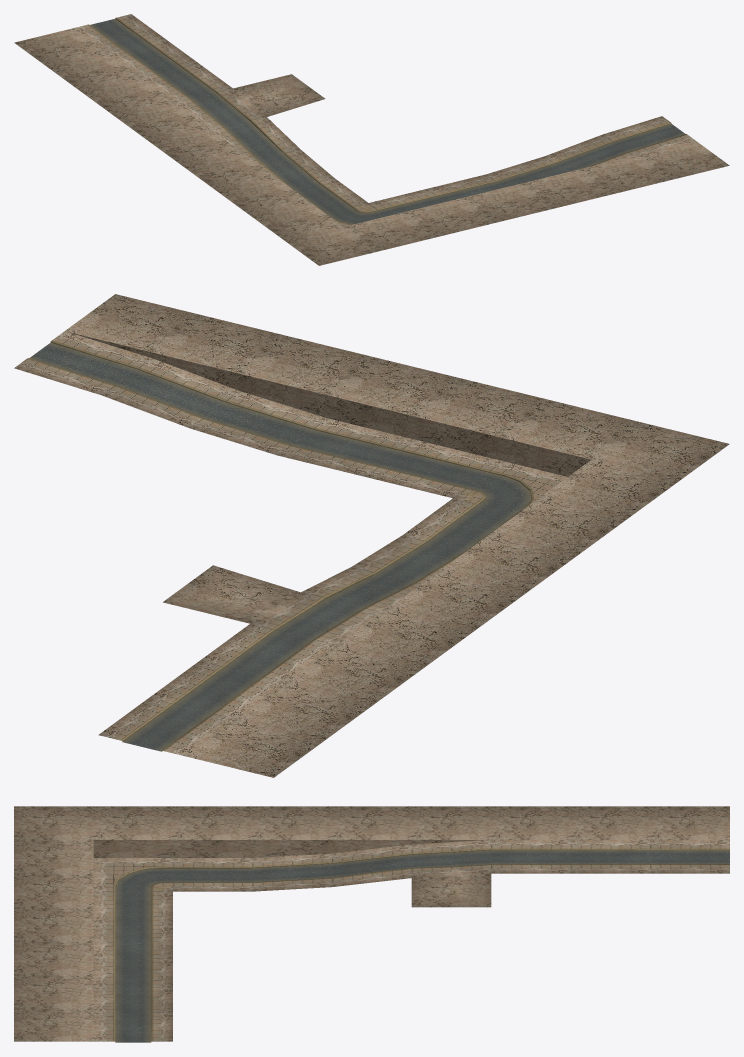
Rendered from M11Z2_Floor4.glb.
3 views of the same model, one above another, from view 1: azimuth 30°, elevation 25°; view 2: azimuth 150°, elevation 25°; view 3: azimuth 270°, elevation 25° (orthographic). The views are drawn at different scales.
Visible parts, largest first — view 1: M11Z2_FLOOR4022, M11Z2_FLOOR4021, M11Z2_FLOOR4019, M11Z2_FLOOR4013, M11Z2_FLOOR4026, M11Z2_FLOOR4004, M11Z2_FLOOR4016, M11Z2_FLOOR4023, M11Z2_FLOOR4024, M11Z2_FLOOR4001, M11Z2_FLOOR4003, M11Z2_FLOOR4006 (+17 smaller); view 2: M11Z2_FLOOR4003, M11Z2_FLOOR4002, M11Z2_FLOOR4004, M11Z2_FLOOR4001, M11Z2_FLOOR4005, M11Z2_FLOOR4012, M11Z2_FLOOR4011, M11Z2_FLOOR4013, M11Z2_FLOOR4006, M11Z2_FLOOR4028, M11Z2_FLOOR4016, M11Z2_FLOOR4023 (+17 smaller); view 3: M11Z2_FLOOR4007, M11Z2_FLOOR4014, M11Z2_FLOOR4016, M11Z2_FLOOR4018, M11Z2_FLOOR4020, M11Z2_FLOOR4002, M11Z2_FLOOR4017, M11Z2_FLOOR4021, M11Z2_FLOOR4009, M11Z2_FLOOR4008, M11Z2_FLOOR4019, M11Z2_FLOOR4010 (+17 smaller).
Boxes of the visible parts, left/top/right/bottom form: M11Z2_FLOOR4022: left=233, top=74, right=325, bottom=116; M11Z2_FLOOR4021: left=174, top=88, right=266, bottom=130; M11Z2_FLOOR4019: left=212, top=117, right=300, bottom=160; M11Z2_FLOOR4013: left=604, top=116, right=695, bottom=155; M11Z2_FLOOR4026: left=107, top=39, right=198, bottom=77; M11Z2_FLOOR4004: left=520, top=169, right=611, bottom=208; M11Z2_FLOOR4016: left=184, top=152, right=275, bottom=191; M11Z2_FLOOR4023: left=82, top=78, right=173, bottom=116; M11Z2_FLOOR4024: left=141, top=63, right=232, bottom=102; M11Z2_FLOOR4001: left=344, top=212, right=435, bottom=251; M11Z2_FLOOR4003: left=461, top=184, right=553, bottom=222; M11Z2_FLOOR4006: left=637, top=141, right=729, bottom=179; M11Z2_FLOOR4003: left=328, top=358, right=465, bottom=439; M11Z2_FLOOR4002: left=416, top=379, right=553, bottom=460; M11Z2_FLOOR4004: left=240, top=337, right=378, bottom=418; M11Z2_FLOOR4001: left=503, top=401, right=641, bottom=476; M11Z2_FLOOR4005: left=152, top=315, right=290, bottom=390; M11Z2_FLOOR4012: left=102, top=358, right=239, bottom=427; M11Z2_FLOOR4011: left=190, top=391, right=327, bottom=455; M11Z2_FLOOR4013: left=14, top=331, right=151, bottom=395; M11Z2_FLOOR4006: left=65, top=294, right=202, bottom=357; M11Z2_FLOOR4028: left=98, top=698, right=236, bottom=756; M11Z2_FLOOR4016: left=440, top=534, right=577, bottom=592; M11Z2_FLOOR4023: left=288, top=645, right=425, bottom=703; M11Z2_FLOOR4007: left=93, top=806, right=172, bottom=857; M11Z2_FLOOR4014: left=173, top=806, right=252, bottom=857; M11Z2_FLOOR4016: left=252, top=806, right=332, bottom=857; M11Z2_FLOOR4018: left=332, top=806, right=411, bottom=853; M11Z2_FLOOR4020: left=411, top=806, right=491, bottom=844; M11Z2_FLOOR4002: left=14, top=873, right=93, bottom=907; M11Z2_FLOOR4017: left=252, top=853, right=332, bottom=891; M11Z2_FLOOR4021: left=411, top=840, right=491, bottom=877; M11Z2_FLOOR4009: left=93, top=891, right=172, bottom=925; M11Z2_FLOOR4008: left=93, top=858, right=172, bottom=892; M11Z2_FLOOR4019: left=332, top=844, right=411, bottom=886; M11Z2_FLOOR4010: left=93, top=925, right=172, bottom=959.
Bounding box in the file's own units: 56 × 2.1 × 72.
6 materials, 6 textured.
